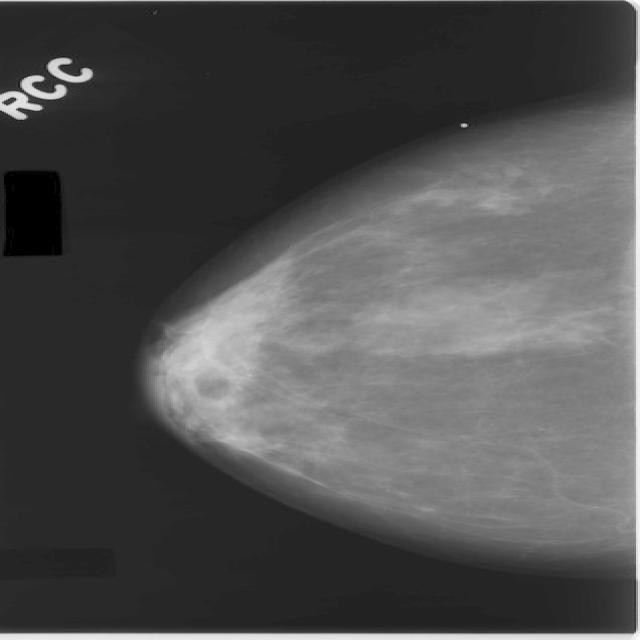tumour: (473, 190, 525, 214)
